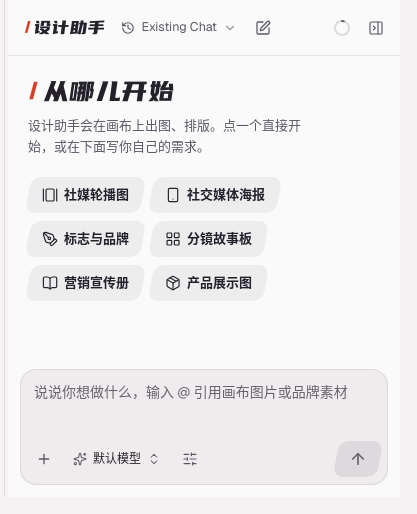
Test: ChatSidebar › stops a streaming run and frees the input when the run ends
Type "画一座灯塔" into the text box with placeholder "说说你想做什么，输入 @ 引用画布图片或品牌素材" at (204, 401), box [28,377,380,425]
Then press Enter
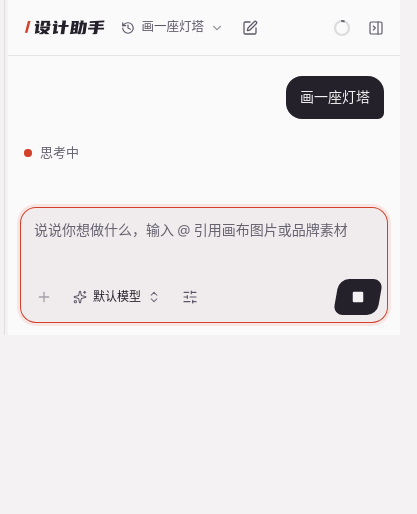
Click the button named "停止" at (358, 297), box [333,279,383,315]
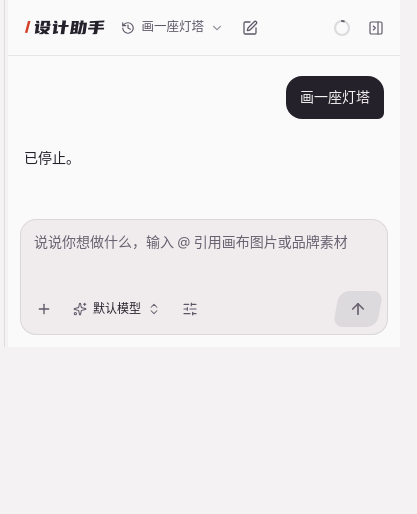
Expected: the button named "正在停止" is disabled, [333,291,383,327]
Expected: the text "已停止。" is shown, [24,149,80,167]
